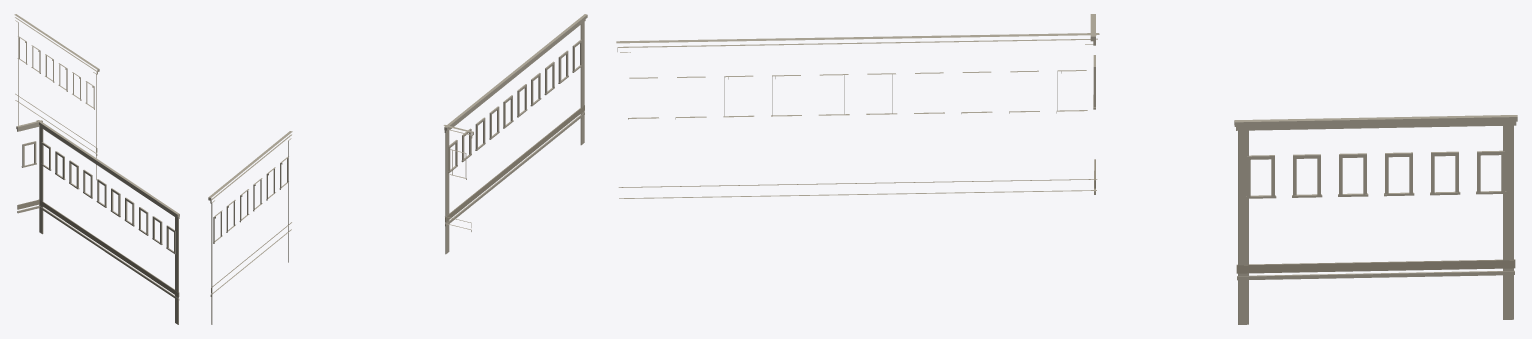
3 renders of one model, left to right at view 1: azimuth 30°, elevation 25°; view 2: azimuth 150°, elevation 25°; view 3: azimuth 270°, elevation 25°, orthographic. The views are drawn at different scales.
Visible parts, largest first — view 1: detail; view 2: detail; view 3: detail.
Boxes of the visible parts, x1,y1,x2,y2 form: detail: (14, 14, 179, 324); detail: (208, 14, 587, 324); detail: (616, 14, 1517, 324).
Bounding box in the file's own units: 14 × 12.31 × 49.25.
